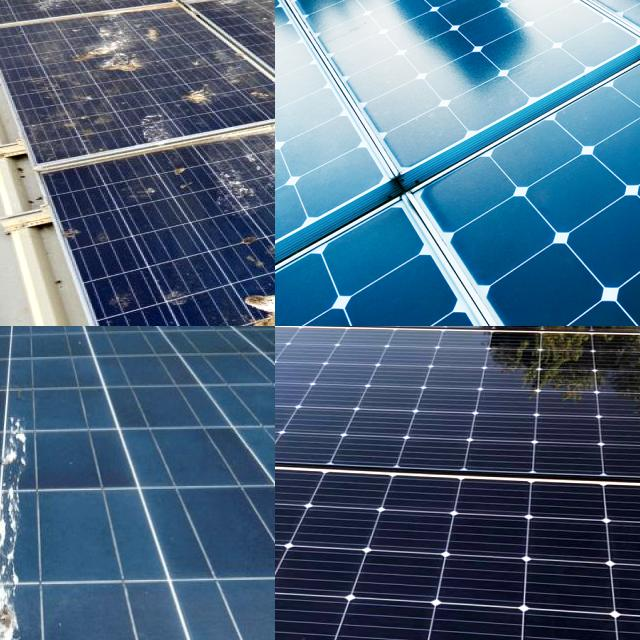bird: (0, 403, 35, 640), (80, 16, 160, 90), (178, 72, 252, 118), (220, 279, 275, 326)
crack: (379, 0, 640, 326), (275, 442, 640, 640), (275, 0, 640, 177), (275, 326, 640, 502), (444, 0, 640, 121), (275, 326, 640, 385), (349, 0, 588, 76), (275, 0, 462, 81)
